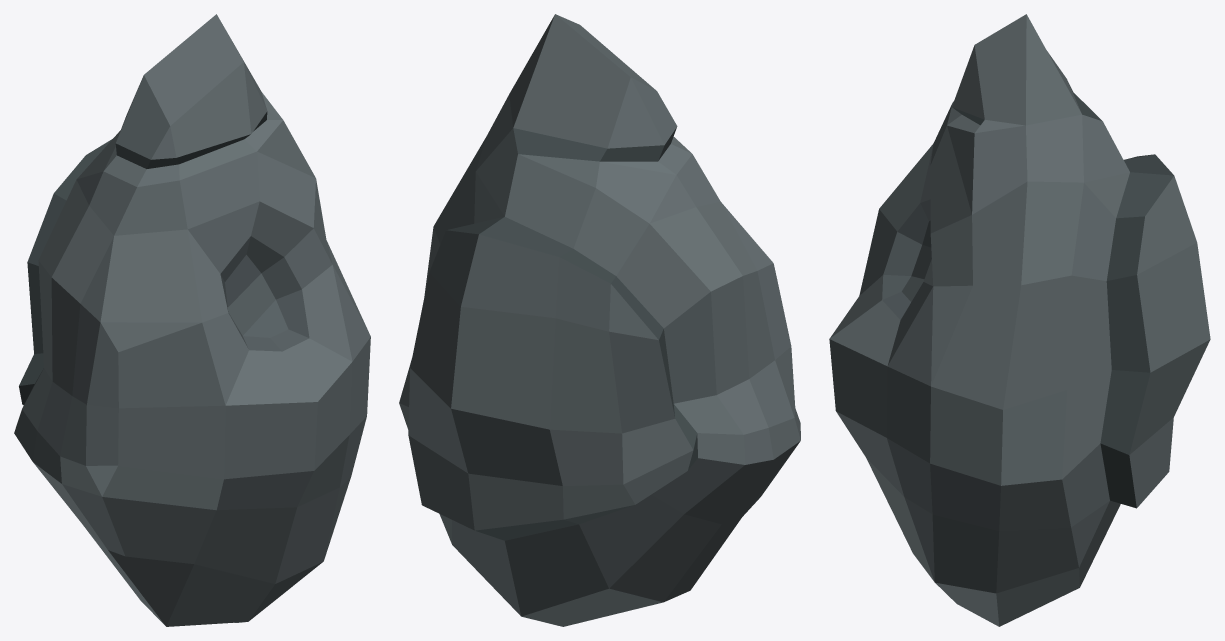
The model's file is Aestroid2.FBX.
The picture shows the model from 3 angles, left to right: view 1: azimuth 30°, elevation 25°; view 2: azimuth 150°, elevation 25°; view 3: azimuth 270°, elevation 25°; orthographic projection. The views are drawn at different scales.
Visible parts, largest first — view 1: Aestroid2; view 2: Aestroid2; view 3: Aestroid2.
Part boxes in pixels (x1=…): Aestroid2: x1=14, y1=14, x2=370, y2=626; Aestroid2: x1=399, y1=14, x2=800, y2=626; Aestroid2: x1=829, y1=14, x2=1210, y2=626.
Size of the model in its own units: 2.41 by 4.2 by 2.38.
